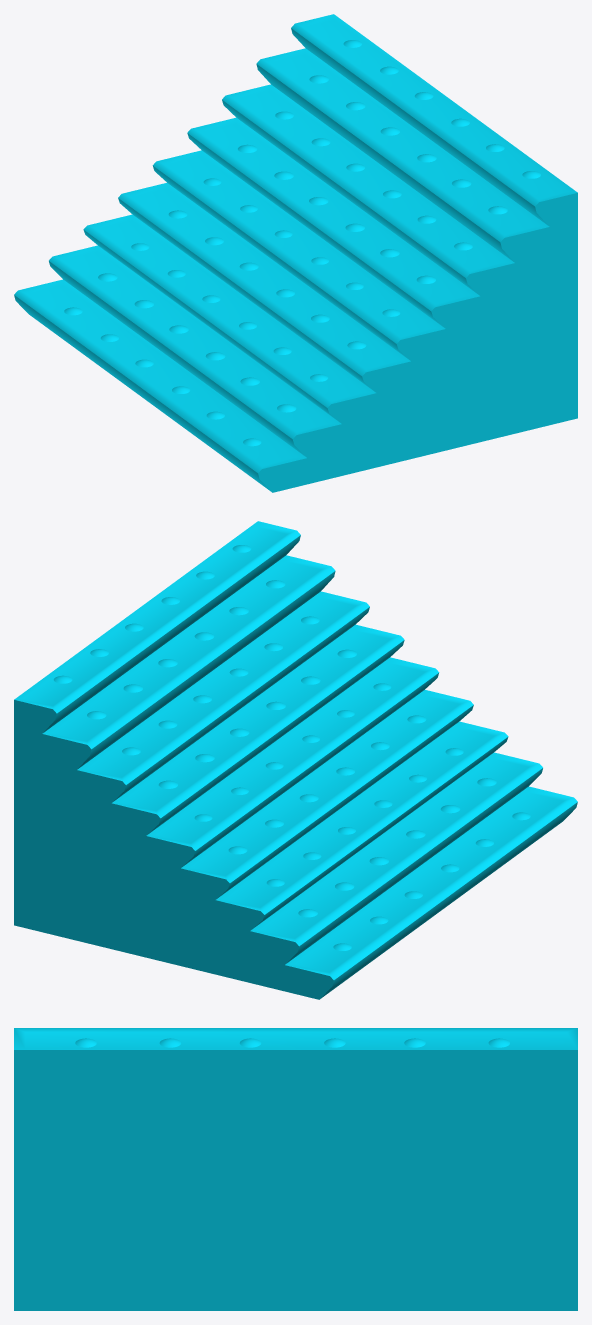
File: Stairs.fbx
3 renders of one model, top to bottom at view 1: azimuth 30°, elevation 25°; view 2: azimuth 150°, elevation 25°; view 3: azimuth 270°, elevation 25°, orthographic. The views are drawn at different scales.
Visible parts, largest first — view 1: Stairs; view 2: Stairs; view 3: Stairs.
Boxes of the visible parts, x1,y1,x2,y2 form: Stairs: [14, 14, 577, 492]; Stairs: [14, 521, 577, 999]; Stairs: [14, 1028, 577, 1310].
Size of the model in its own units: 112 by 75.55 by 147.
